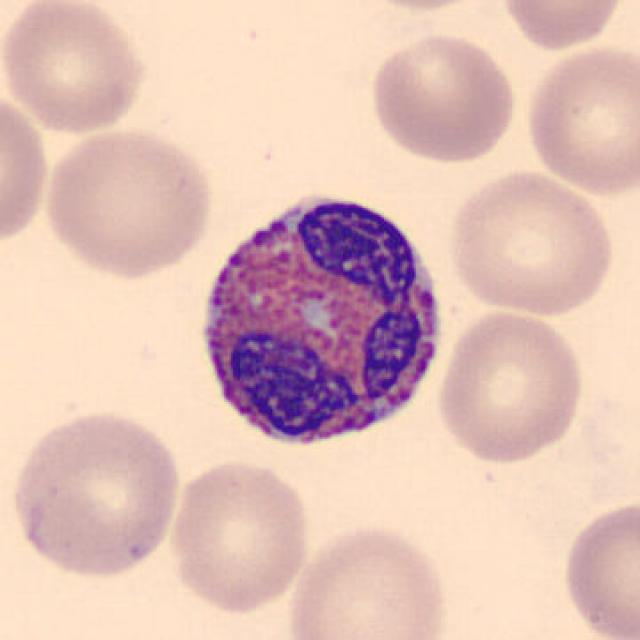Eosinophil: (187, 175, 455, 467)
RBC: (5, 405, 187, 582), (39, 124, 219, 282), (441, 166, 620, 317), (432, 305, 588, 467), (163, 455, 314, 615), (365, 28, 519, 166), (2, 0, 153, 136), (284, 520, 453, 640), (521, 41, 638, 198), (558, 495, 638, 640), (0, 88, 53, 252), (496, 0, 629, 53), (345, 0, 494, 14)
